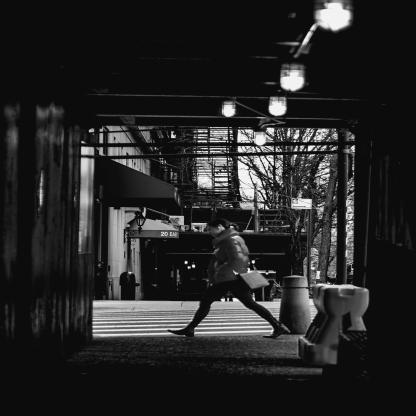jean: (170, 212, 299, 346)
